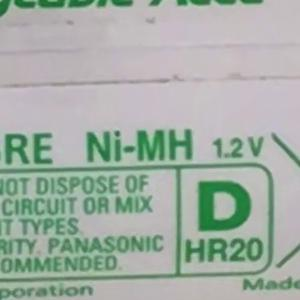keyword: (46, 120, 196, 181), (177, 229, 267, 271)
